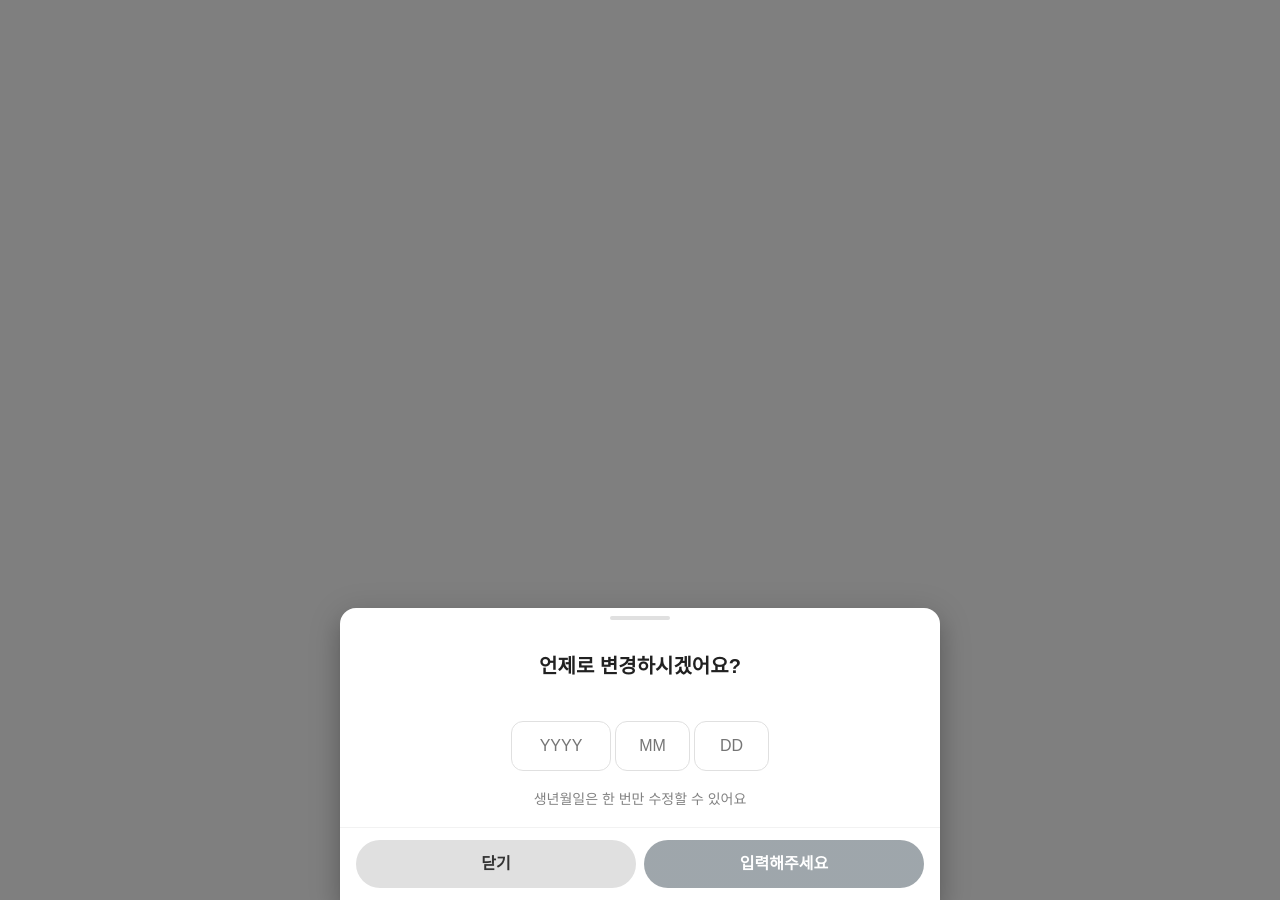
인터랙션 테스트 › day input에는 31까지만 입력된다.
In the field with placeholder "DD": (732,746) x1=694 y1=721 x2=769 y2=771, type "32"
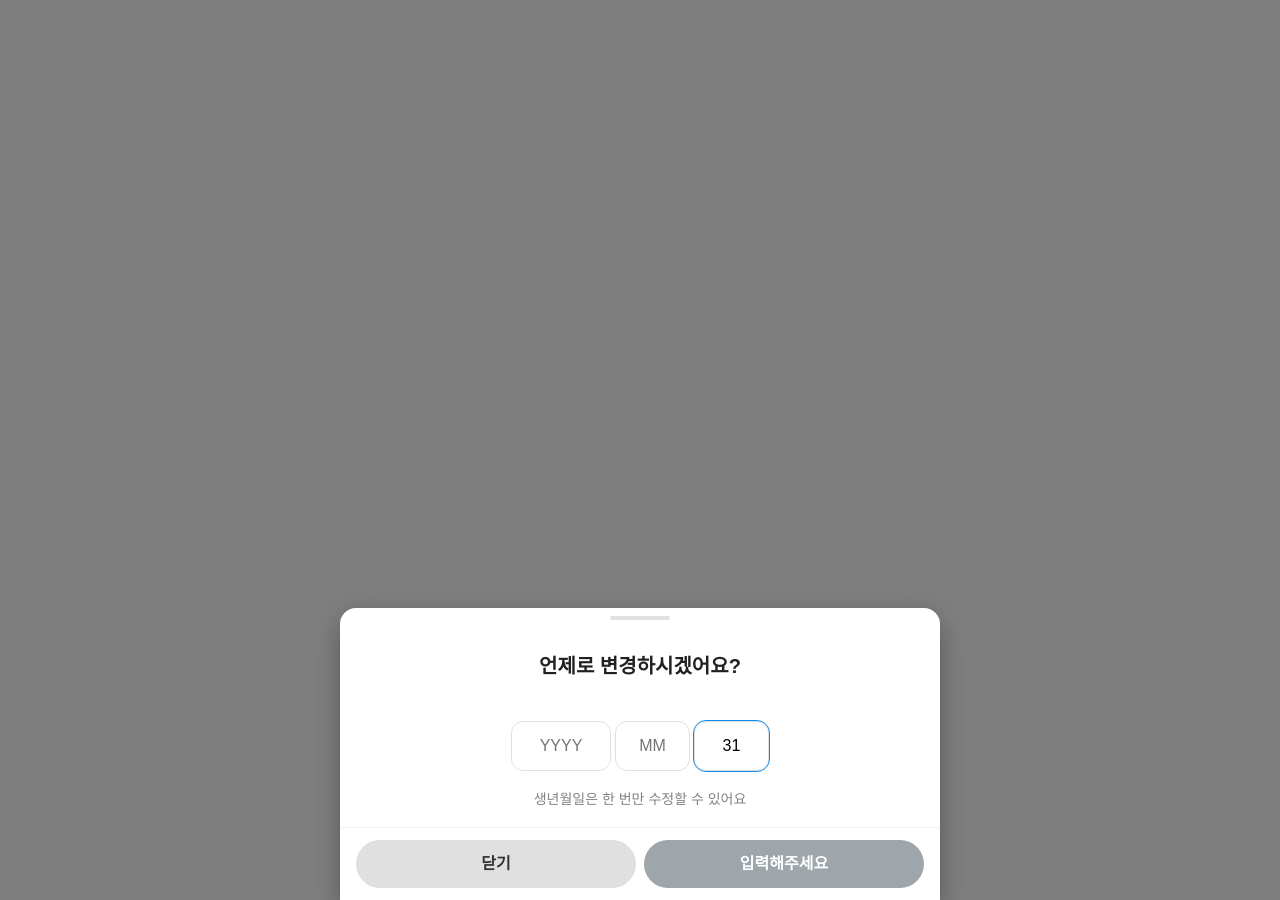
Now the field with placeholder "DD" holds "31", box x1=694 y1=721 x2=769 y2=771
